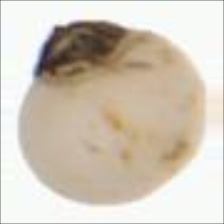L5: (26, 19, 143, 79)
L6: (14, 19, 210, 209)
